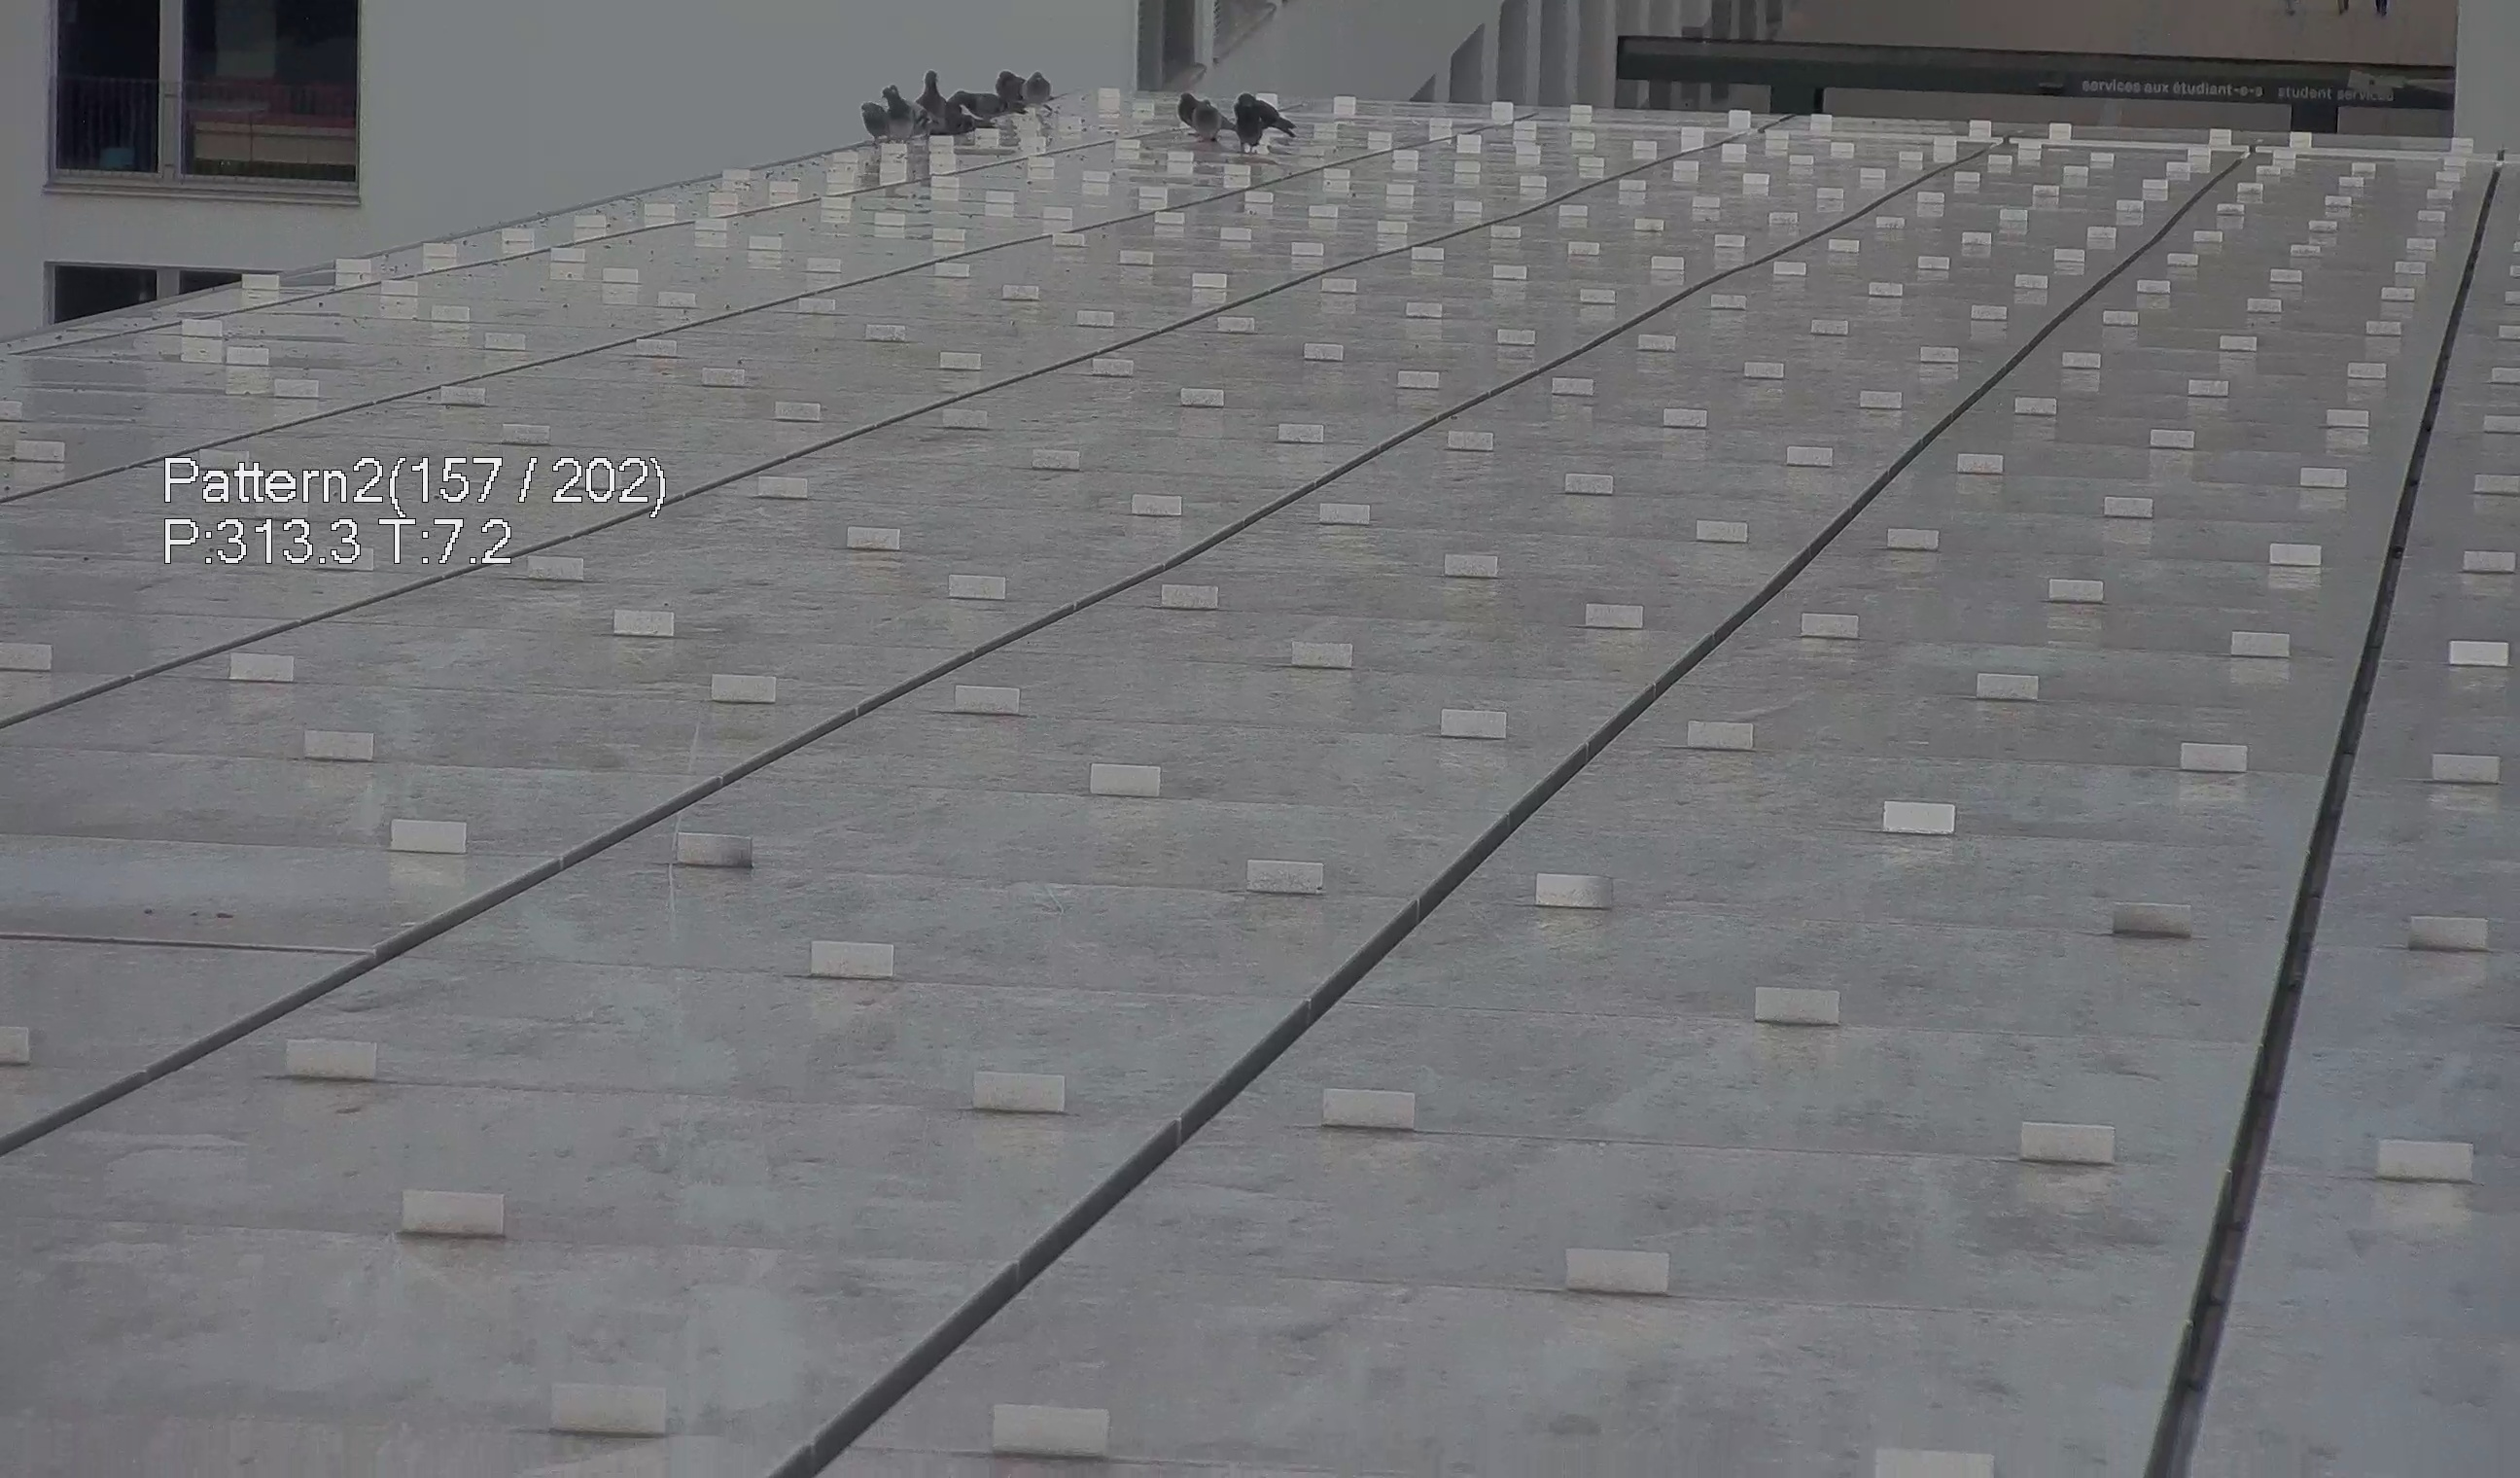Pigeon: (1240, 86, 1294, 135), (881, 84, 921, 146), (951, 86, 1016, 118), (1231, 99, 1268, 153), (1192, 99, 1226, 146), (918, 67, 948, 118), (930, 114, 981, 143), (990, 67, 1027, 104), (856, 100, 893, 137), (1025, 72, 1052, 107), (1178, 88, 1199, 128)
